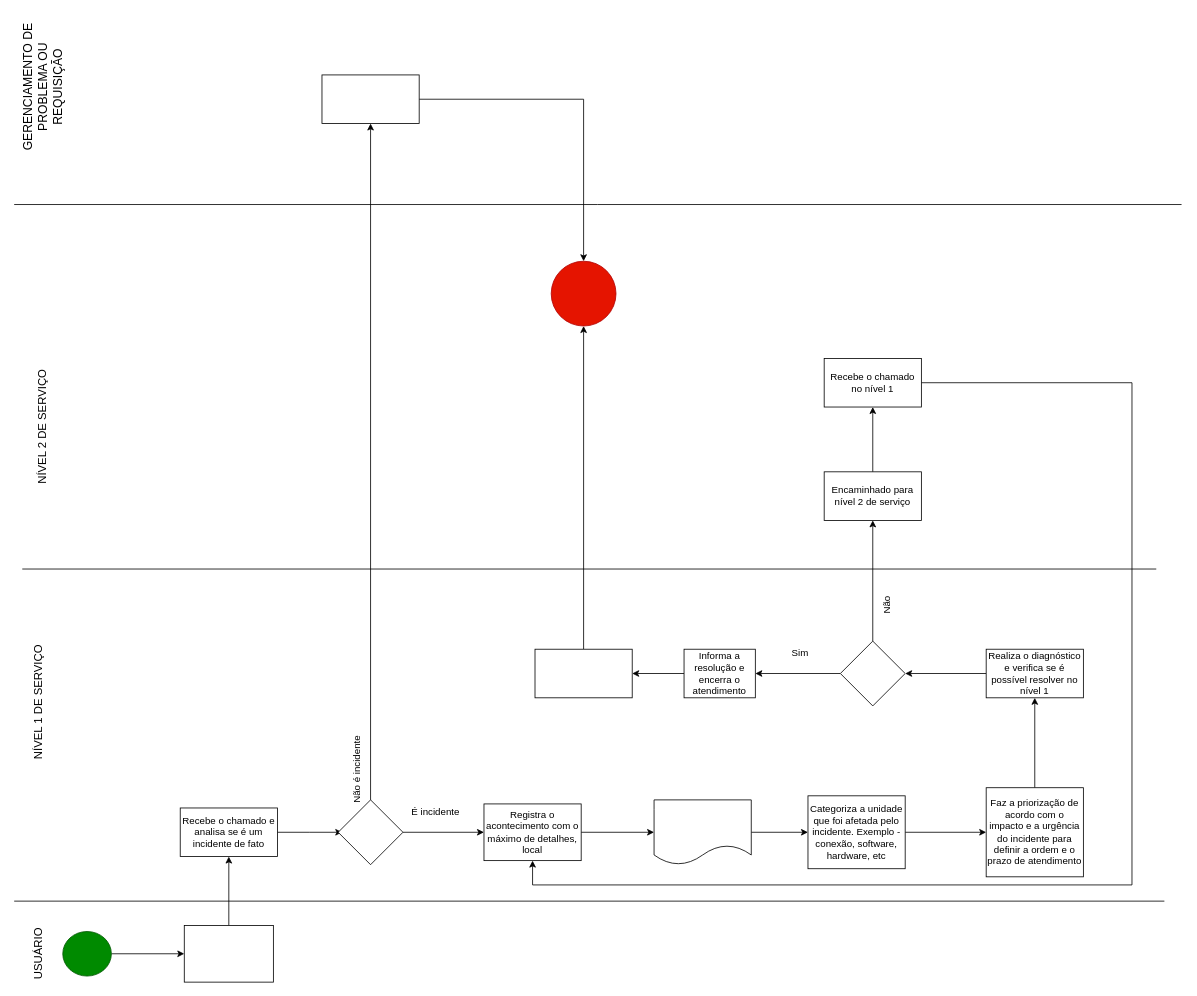
The diagram is 1197 pixels wide and 996 high, and some of its shapes have lost their labels. The shapes that lost their labels are listed below. From the top down, each one's centre as x and y in pixels, then its label:
At point 370,99: "Encaminha para o Gerenciamento de Problemas ou Requisição".
At point 583,673: "Finaliza o chamado".
At point 702,832: "Consulta base de conhecimento".
At point 228,953: "Cliente entra em contato com o suporte para informar o incidente".
